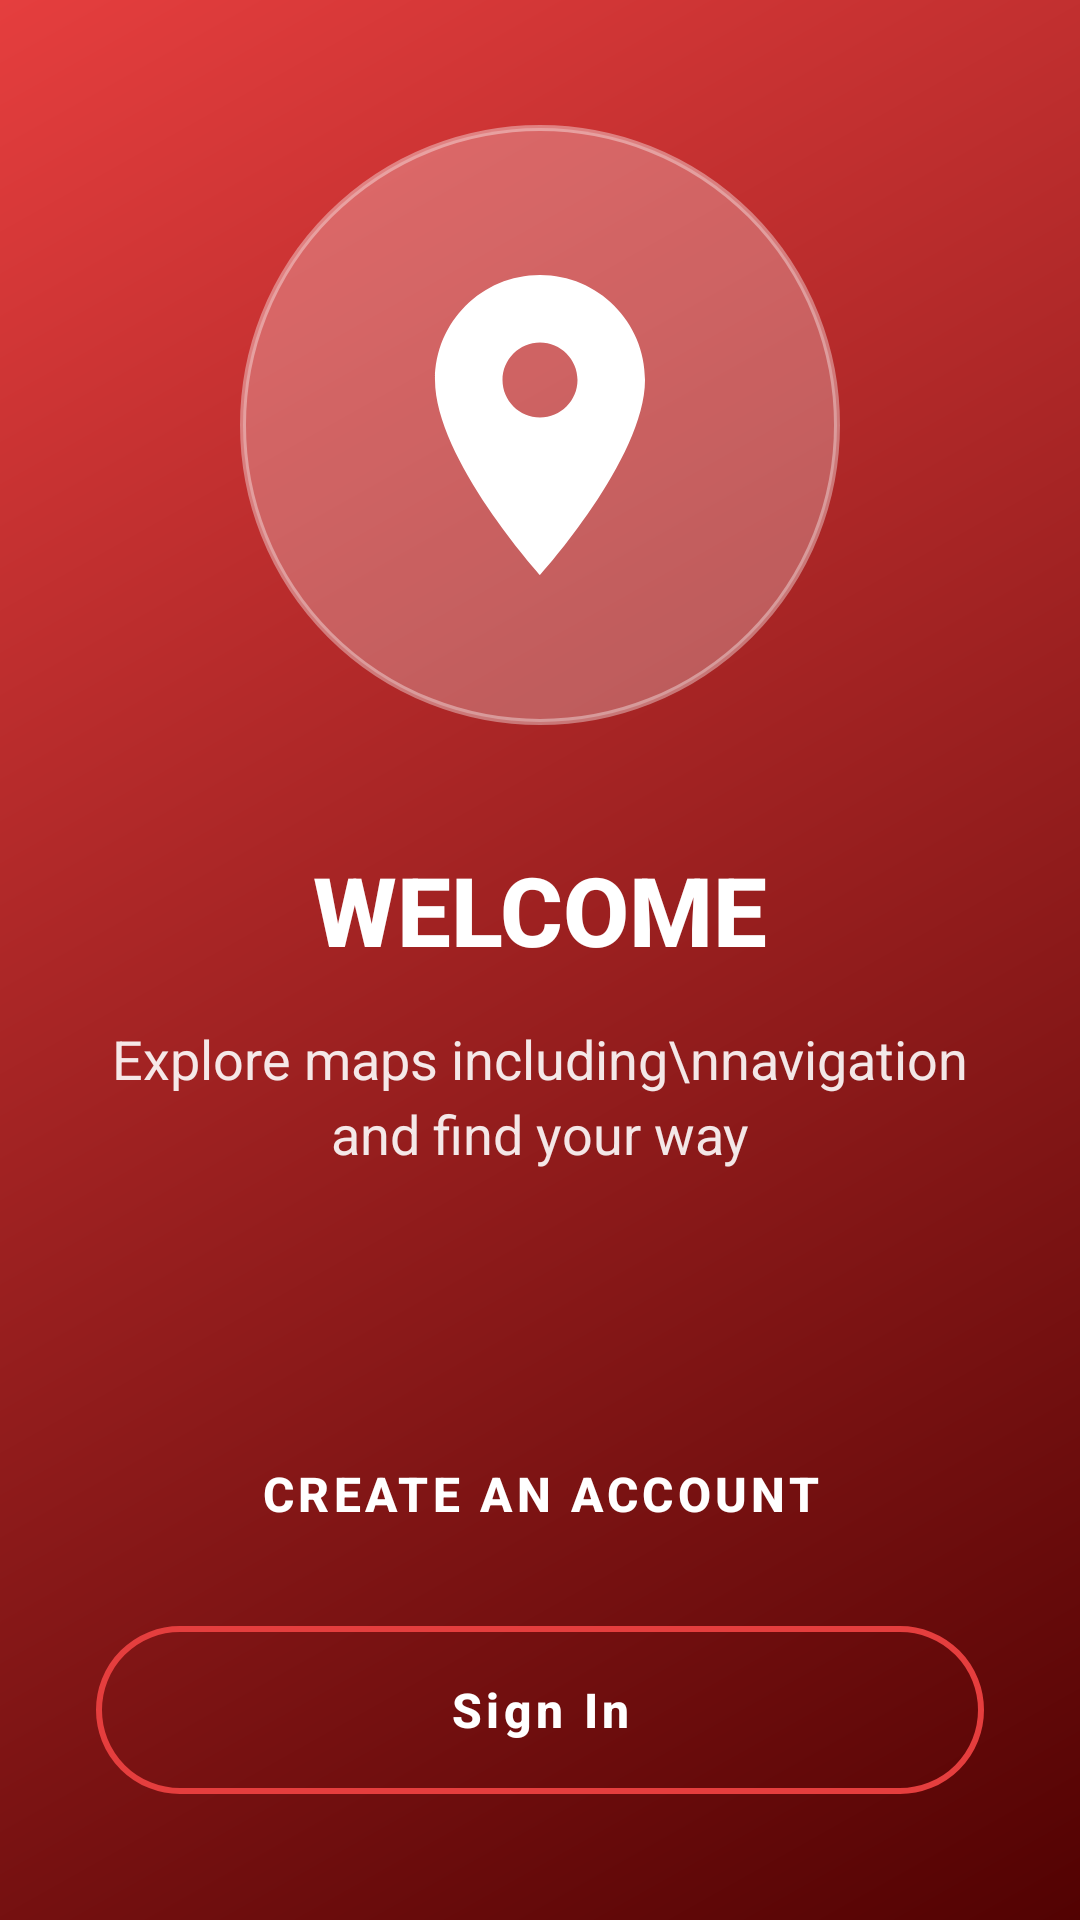

Locate icon controls on the screen. Image size 1080px×1920px, boxes as BBox(x1, y1, x2, y2).
Maps app icon: BBox(435, 275, 645, 575)
